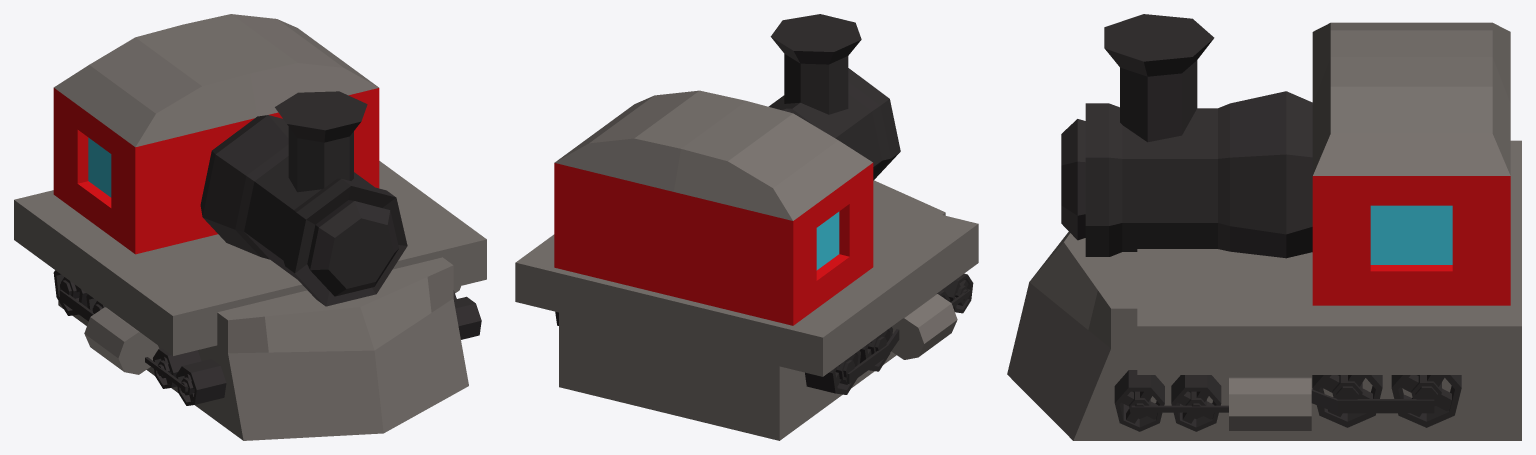
File: Trem.glb
3 renders of one model, left to right at view 1: azimuth 30°, elevation 25°; view 2: azimuth 150°, elevation 25°; view 3: azimuth 270°, elevation 25°, orthographic. The views are drawn at different scales.
Parts seen in each view (by area): view 1: Trem; view 2: Trem; view 3: Trem.
Part boxes in pixels (box(x1,y1,x2,y2)): Trem: box(14, 14, 486, 440); Trem: box(515, 14, 978, 440); Trem: box(1007, 14, 1521, 440).
Size of the model in its own units: 0.9616 by 0.7358 by 1.02.
